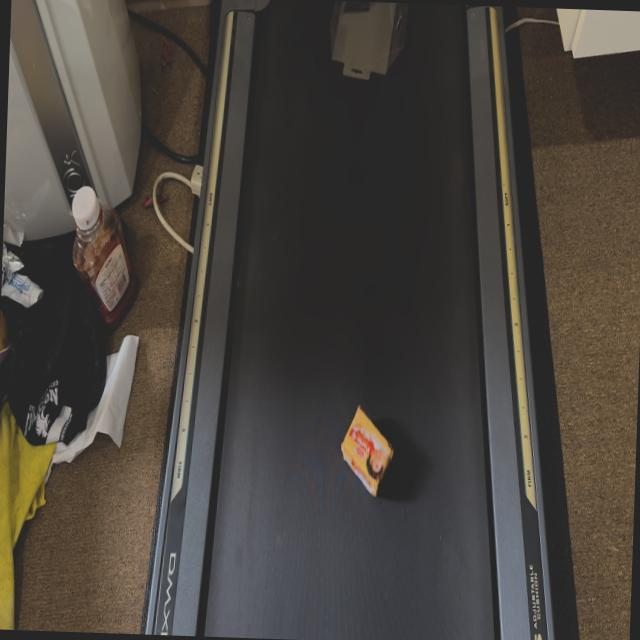Recycle: (324, 0, 411, 82)
Trash: (340, 406, 394, 500)
